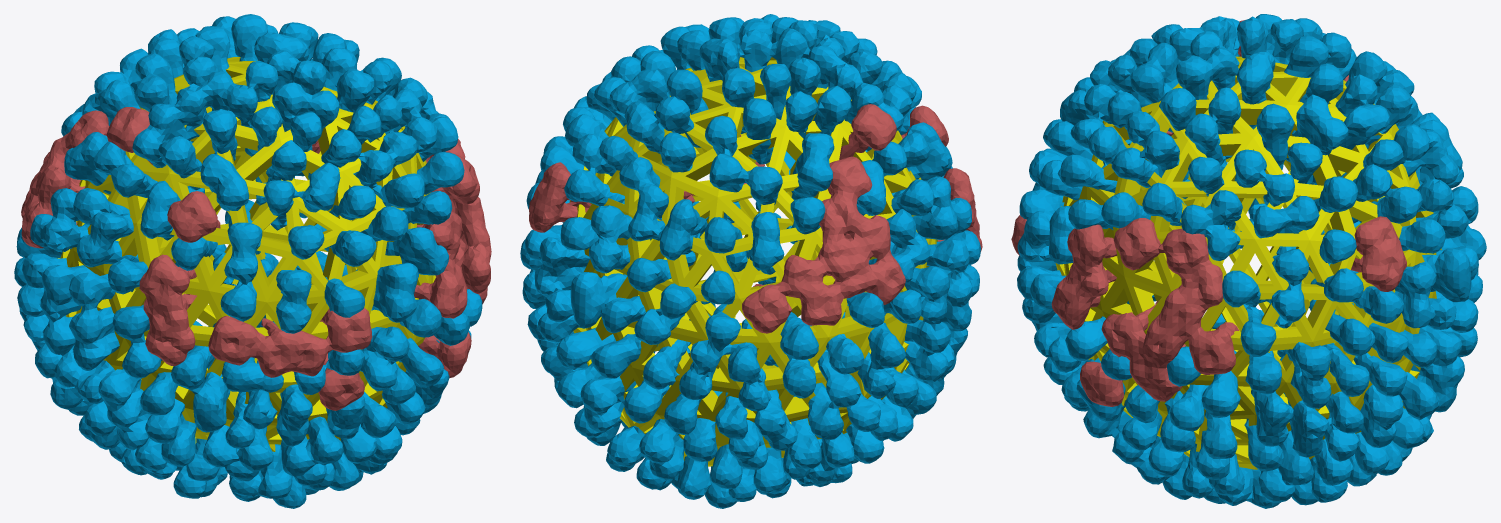
The model's file is asset.glb.
3 renders of one model, left to right at view 1: azimuth 30°, elevation 25°; view 2: azimuth 150°, elevation 25°; view 3: azimuth 270°, elevation 25°, orthographic. The views are drawn at different scales.
Parts seen in each view (by area): view 1: Flu.ply; view 2: Flu.ply; view 3: Flu.ply.
Part boxes in pixels (x1,y1,x2,y2): Flu.ply: [14, 14, 491, 508]; Flu.ply: [520, 14, 982, 508]; Flu.ply: [1011, 14, 1486, 508].
Size of the model in its own units: 17.05 by 17.86 by 17.03.
